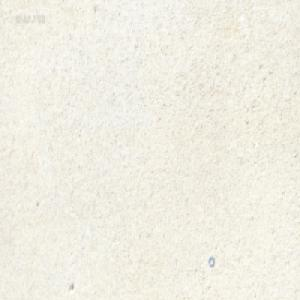Washer: (208, 255, 214, 267)
